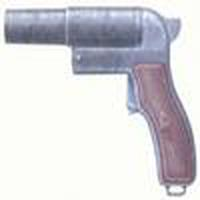gun: (5, 9, 200, 196)
